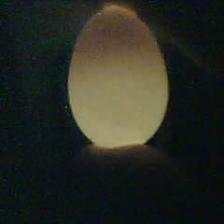infertile: (66, 5, 168, 150)
